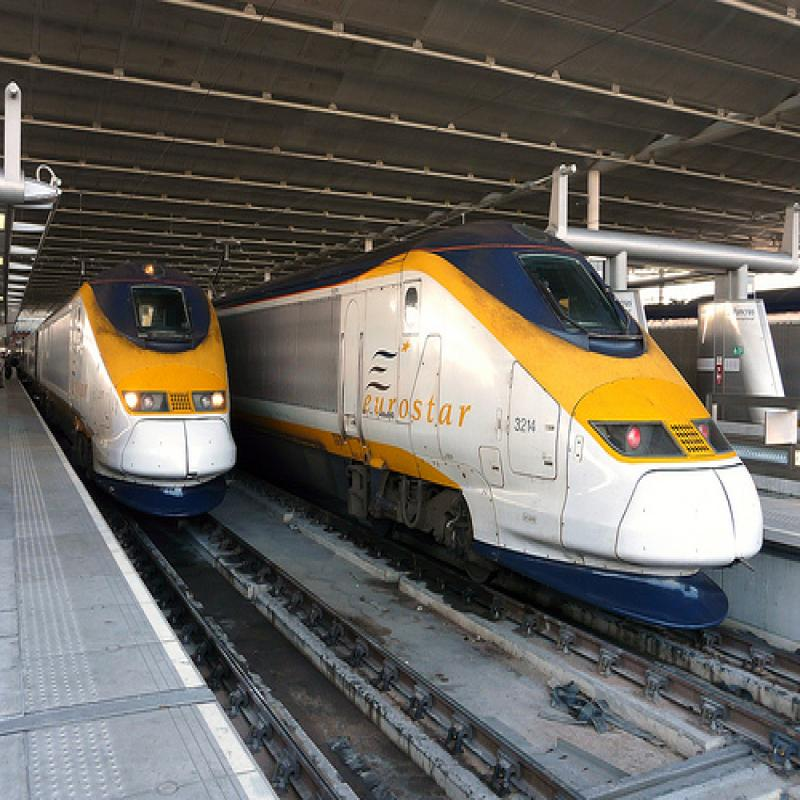train: (221, 217, 768, 635), (19, 270, 240, 517)
